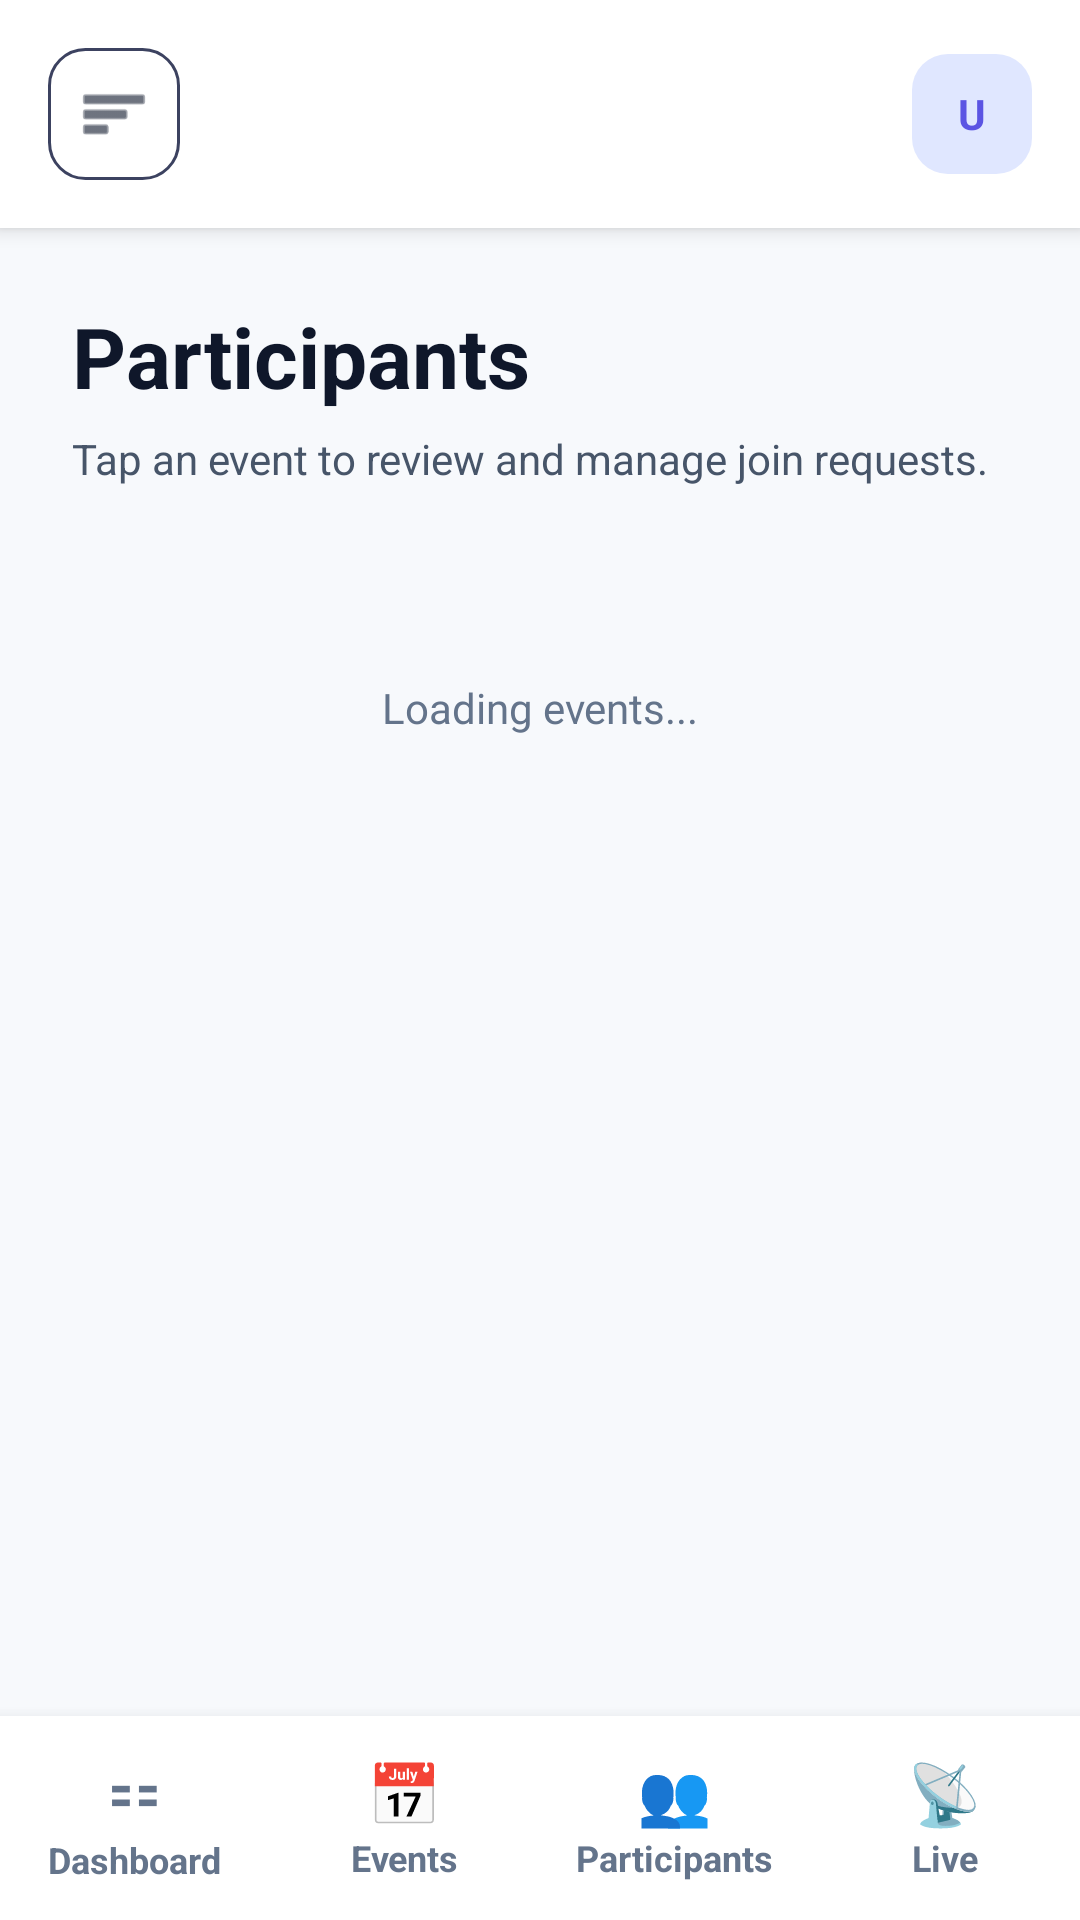

Named icons in this screenshot (1080 × 1920) and their bounding boxes, (x1, y1, x2, y2):
sort by size: (48, 48, 180, 180)
